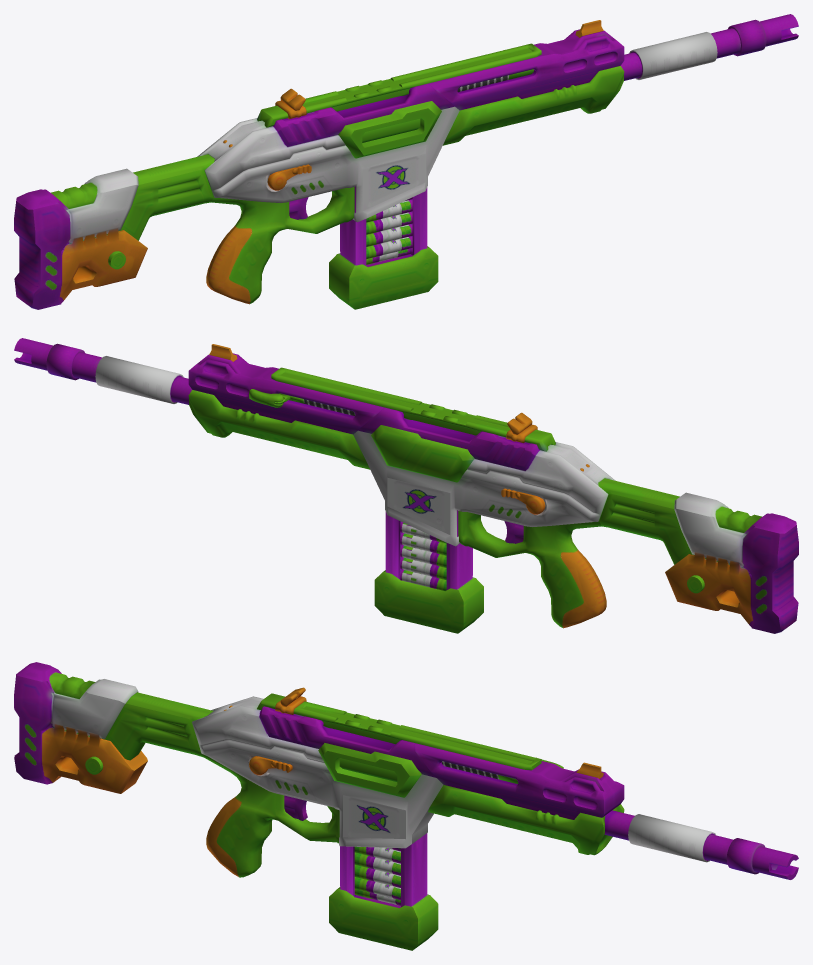
The model's file is specialcarbine_brin.glb.
3 renders of one model, top to bottom at view 1: azimuth 30°, elevation 25°; view 2: azimuth 150°, elevation 25°; view 3: azimuth 330°, elevation 25°, orthographic.
Parts seen in each view (by area): view 1: Gun_Root, AAPClip; view 2: Gun_Root, AAPClip; view 3: Gun_Root, AAPClip.
Boxes of the visible parts, <box> form: Gun_Root: <box>14,14,798,309</box>; AAPClip: <box>329,186,438,309</box>; Gun_Root: <box>14,338,798,633</box>; AAPClip: <box>374,510,483,633</box>; Gun_Root: <box>14,662,798,879</box>; AAPClip: <box>329,833,438,950</box>.
Size of the model in its own units: 0.7006 by 0.1932 by 0.0486.
2 materials, 2 textured.
